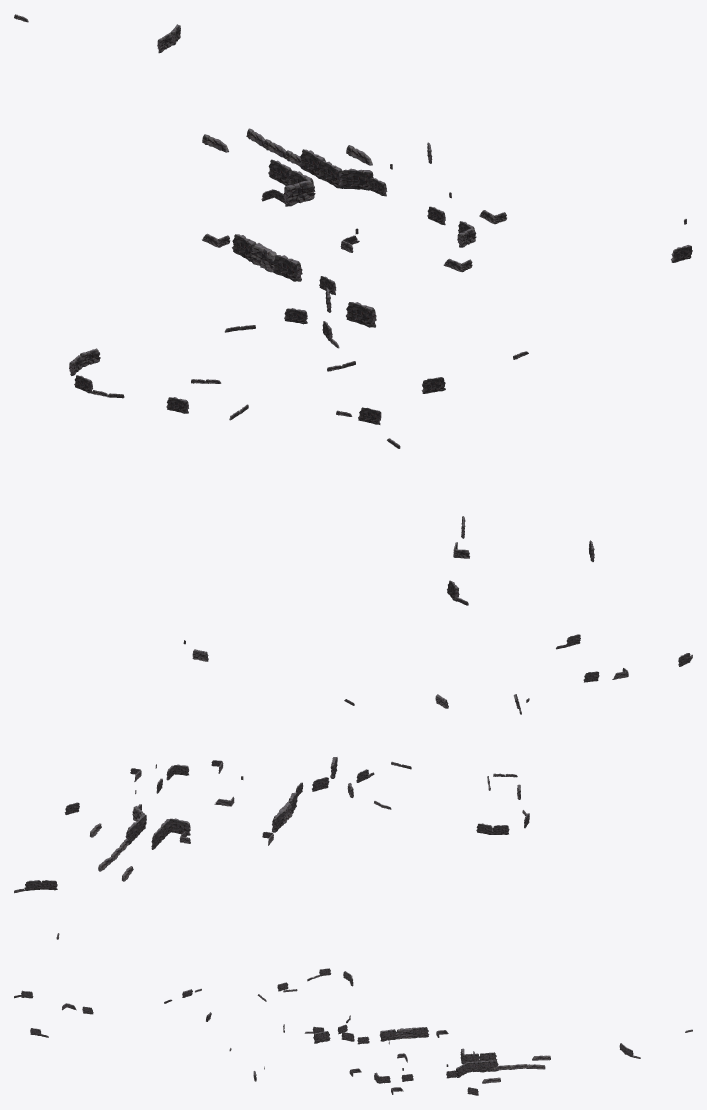
Rendered from RockFencesWallMaterial.FBX.
The picture shows the model from 3 angles, top to bottom: view 1: azimuth 30°, elevation 25°; view 2: azimuth 150°, elevation 25°; view 3: azimuth 270°, elevation 25°; orthographic projection. The views are drawn at different scales.
Parts seen in each view (by area): view 1: polySurface207; view 2: polySurface207; view 3: polySurface207.
Part boxes in pixels (x1,y1,x2,y2): polySurface207: [14, 14, 692, 605]; polySurface207: [14, 634, 692, 939]; polySurface207: [14, 968, 692, 1095].
Size of the model in its own units: 279 by 46.14 by 595.
